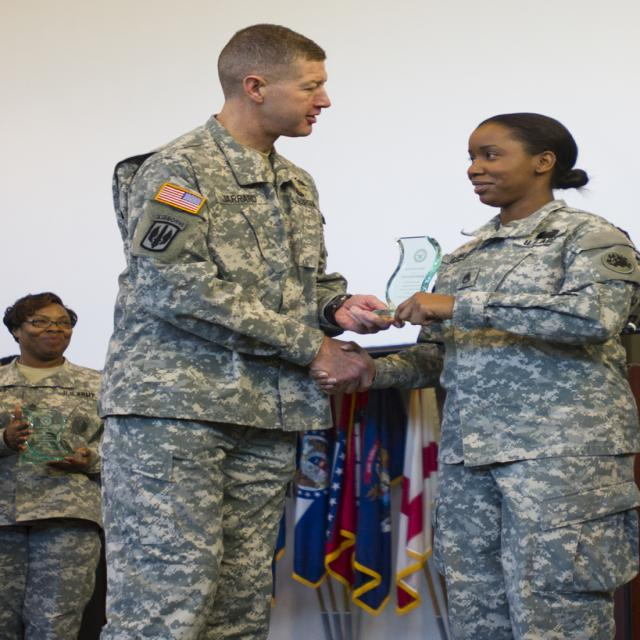no_helmet: (429, 86, 528, 144), (45, 254, 143, 312), (237, 21, 335, 78)
